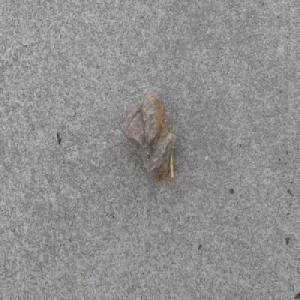Rock: (120, 86, 177, 184)
